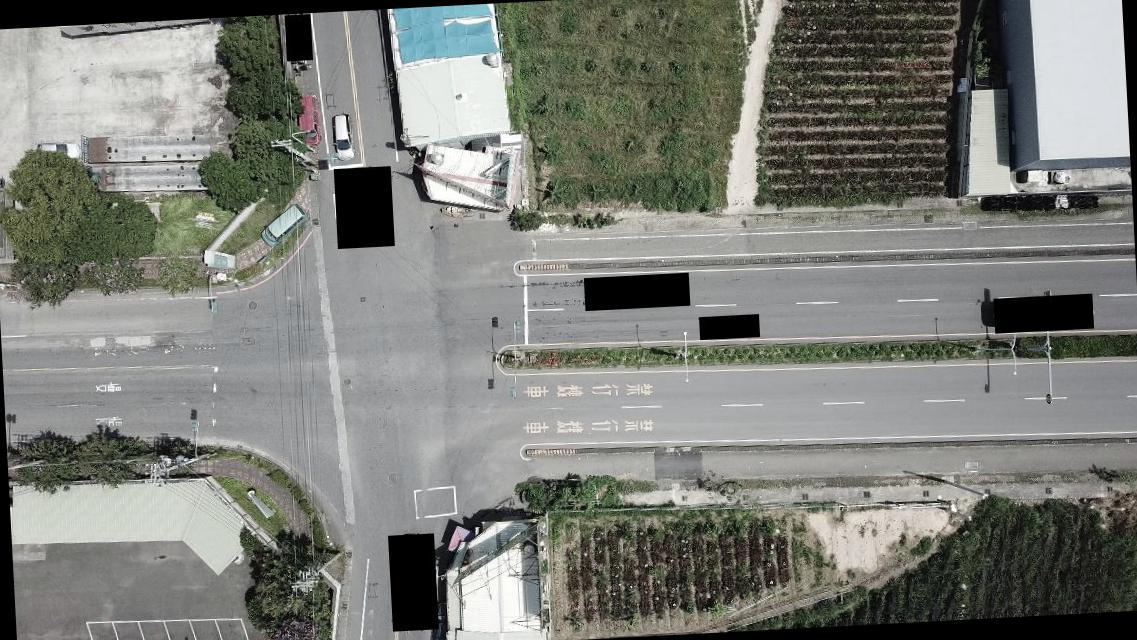vehicle: (261, 206, 310, 253), (291, 92, 323, 153), (33, 140, 81, 168), (330, 113, 355, 164), (429, 600, 446, 639)
